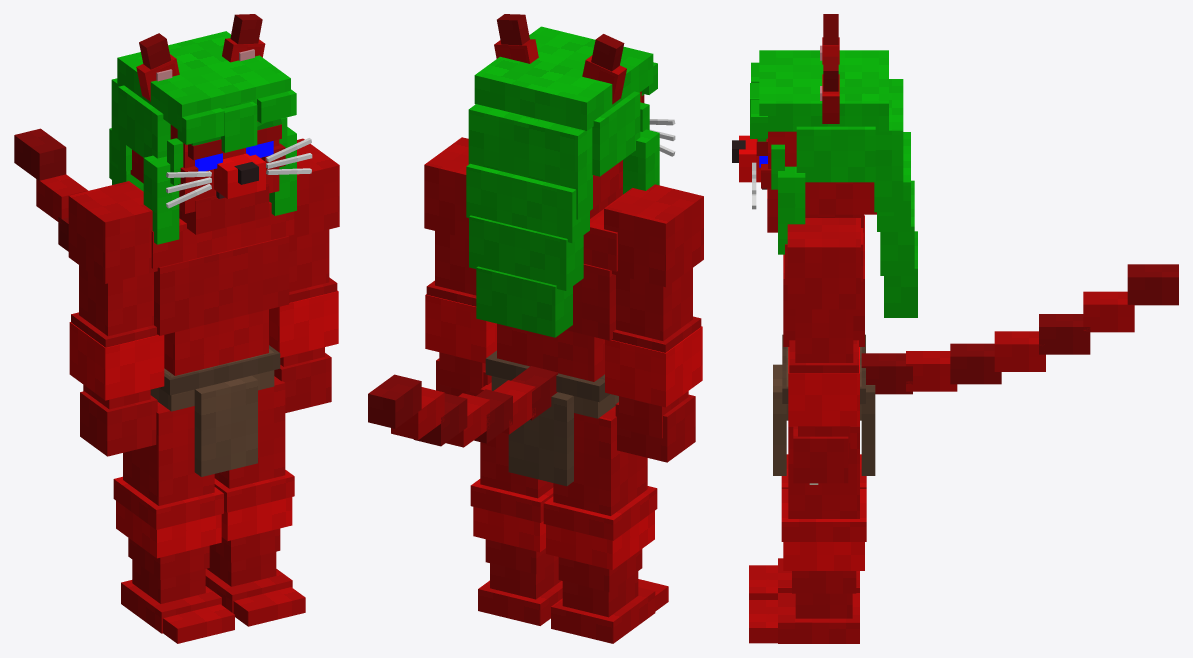
File: beastfolk_s0.glb
The picture shows the model from 3 angles, left to right: view 1: azimuth 30°, elevation 25°; view 2: azimuth 150°, elevation 25°; view 3: azimuth 270°, elevation 25°; orthographic projection. The views are drawn at different scales.
Parts seen in each view (by area): view 1: Head, Torso, ArmR, LegR, LegL, ArmL; view 2: Head, Torso, ArmR, LegR, ArmL, LegL; view 3: Head, Torso, ArmL, LegL, LegR.
Boxes of the visible parts, x1,y1,x2,y2 form: Head: (109, 14, 312, 244); Torso: (14, 128, 294, 476); ArmR: (68, 181, 164, 456); LegR: (113, 402, 234, 643); LegL: (205, 376, 305, 626); ArmL: (269, 138, 339, 412); Head: (466, 14, 675, 337); Torso: (368, 209, 618, 486); ArmR: (604, 184, 703, 462); LegR: (543, 406, 668, 643); ArmL: (424, 137, 496, 396); LegL: (470, 382, 562, 625); Head: (732, 14, 917, 317); Torso: (773, 215, 1178, 475); ArmL: (787, 218, 860, 484); LegL: (749, 426, 866, 643); LegR: (749, 454, 866, 599).
Size of the model in its own units: 0.797 by 1.86 by 1.31.
Materials: 26 (26 with a texture image).
